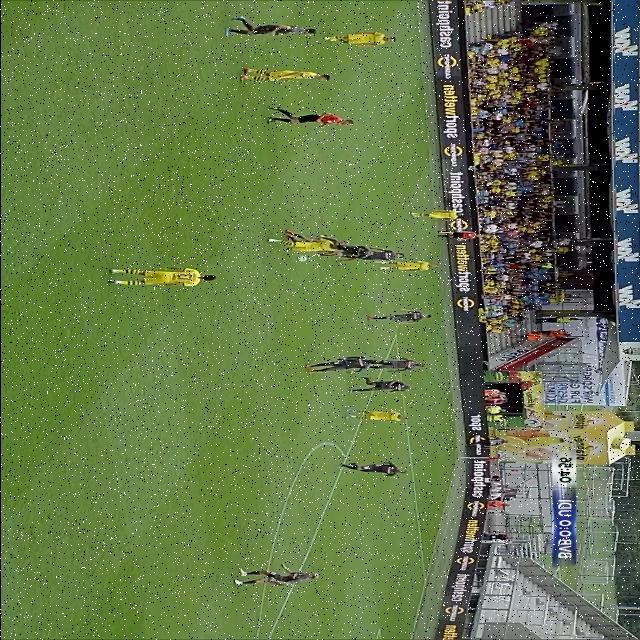player: (106, 266, 222, 289), (220, 15, 316, 39), (231, 565, 316, 589), (239, 66, 336, 84), (304, 354, 380, 376), (262, 237, 342, 255), (359, 354, 427, 374), (322, 30, 396, 48), (336, 459, 404, 477), (346, 379, 414, 397), (345, 409, 411, 425), (326, 239, 372, 261), (366, 310, 430, 325), (374, 259, 438, 273), (362, 249, 407, 263), (411, 209, 459, 219)
referee: (267, 105, 355, 131), (437, 230, 484, 244)
